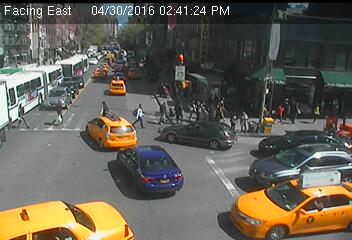neg: (259, 159, 291, 202), (315, 181, 344, 219), (51, 195, 79, 232), (201, 36, 228, 71), (205, 137, 231, 171), (31, 23, 56, 56), (60, 133, 83, 164), (259, 52, 282, 83), (314, 68, 334, 94), (168, 49, 186, 74), (117, 150, 135, 174), (107, 45, 122, 65)
pos: (133, 100, 154, 128), (13, 105, 33, 131), (154, 94, 174, 120), (237, 108, 256, 132), (171, 95, 190, 119), (52, 100, 69, 123), (307, 101, 323, 122), (95, 95, 110, 115), (275, 105, 288, 122), (230, 115, 240, 129)
